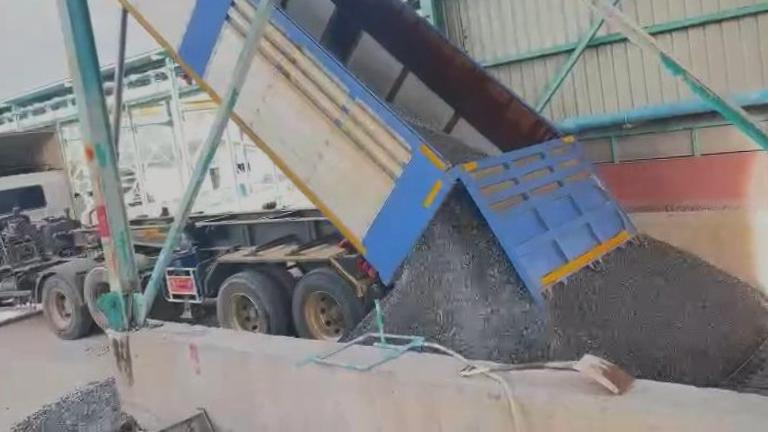gravel: (383, 187, 768, 385), (6, 378, 124, 432), (402, 113, 489, 167)
